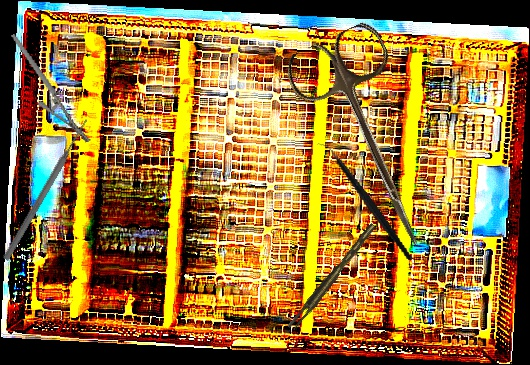Chopper: (315, 126, 414, 277)
Iris Scissors: (279, 17, 467, 265)
Needle Holder: (10, 21, 92, 155)
Pusher: (1, 115, 92, 263)
Tissue Forceps: (283, 223, 382, 332)
